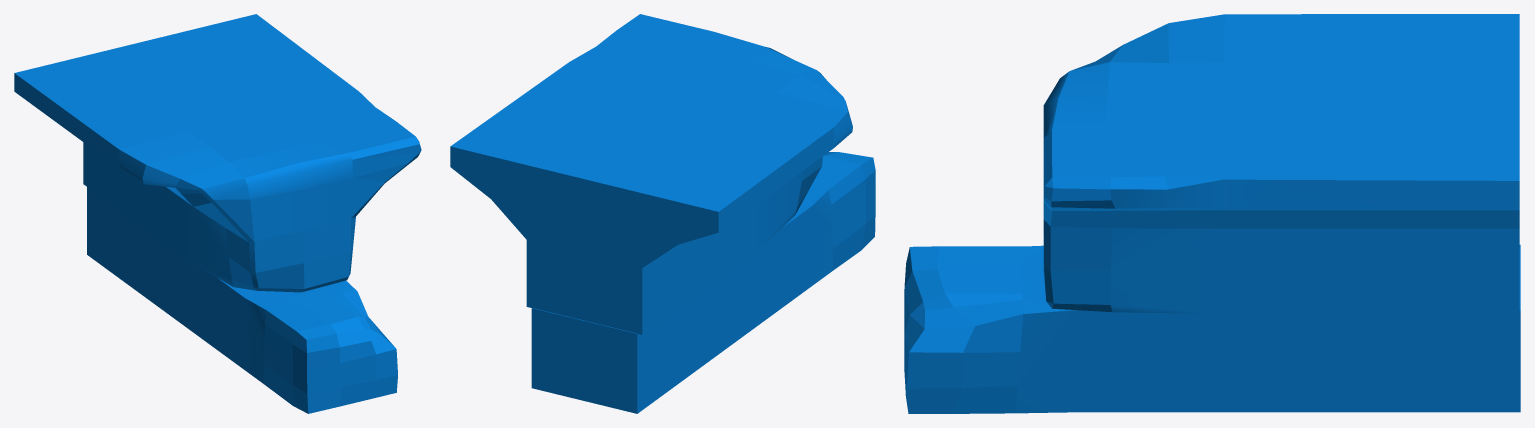
Rendered from Pillar_Up_03_Lod0.fbx.
The picture shows the model from 3 angles, left to right: view 1: azimuth 30°, elevation 25°; view 2: azimuth 150°, elevation 25°; view 3: azimuth 270°, elevation 25°; orthographic projection. The views are drawn at different scales.
Visible parts, largest first — view 1: Pillar_Up_03_Lod0; view 2: Pillar_Up_03_Lod0; view 3: Pillar_Up_03_Lod0.
Boxes of the visible parts, x1=… form: Pillar_Up_03_Lod0: x1=14, y1=14, x2=421, y2=413; Pillar_Up_03_Lod0: x1=450, y1=14, x2=875, y2=413; Pillar_Up_03_Lod0: x1=904, y1=14, x2=1520, y2=413.
Size of the model in its own units: 744 by 599 by 1161.
